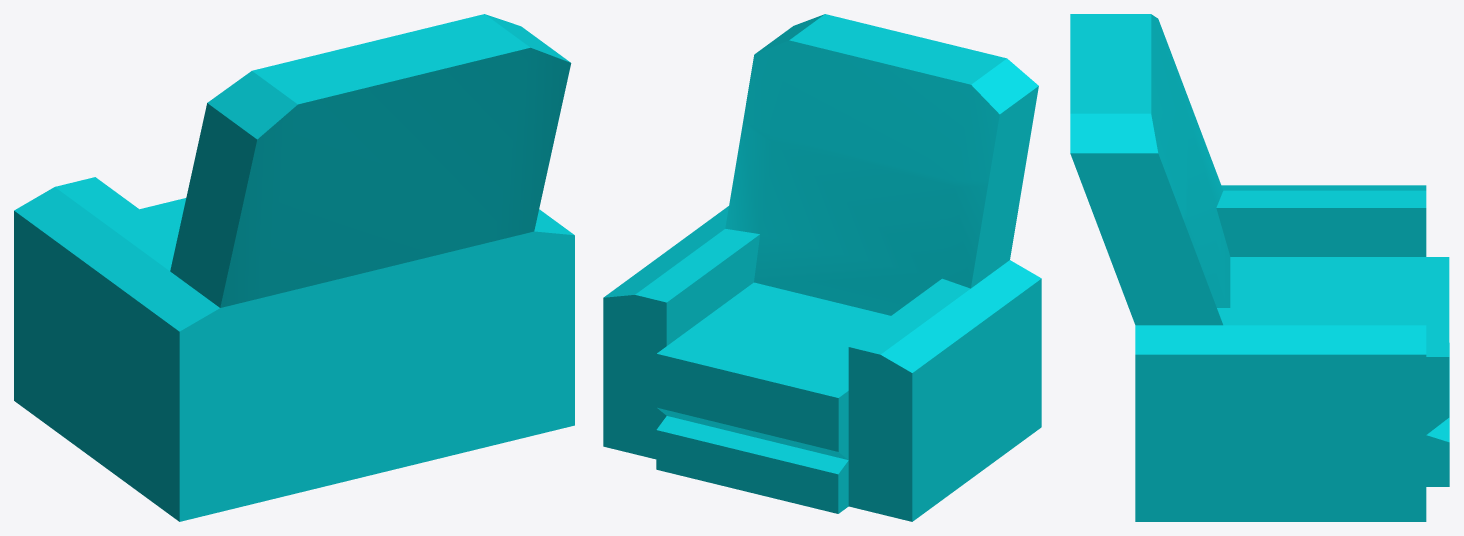
The model's file is own_chair.fbx.
3 renders of one model, left to right at view 1: azimuth 30°, elevation 25°; view 2: azimuth 150°, elevation 25°; view 3: azimuth 270°, elevation 25°, orthographic. The views are drawn at different scales.
Parts seen in each view (by area): view 1: Prop_Big_Chair_01; view 2: Prop_Big_Chair_01; view 3: Prop_Big_Chair_01.
Part boxes in pixels (x1=…): Prop_Big_Chair_01: x1=14, y1=14, x2=574, y2=521; Prop_Big_Chair_01: x1=603, y1=14, x2=1041, y2=521; Prop_Big_Chair_01: x1=1070, y1=14, x2=1449, y2=521.
Size of the model in its own units: 2.21 by 2.27 by 2.09.
